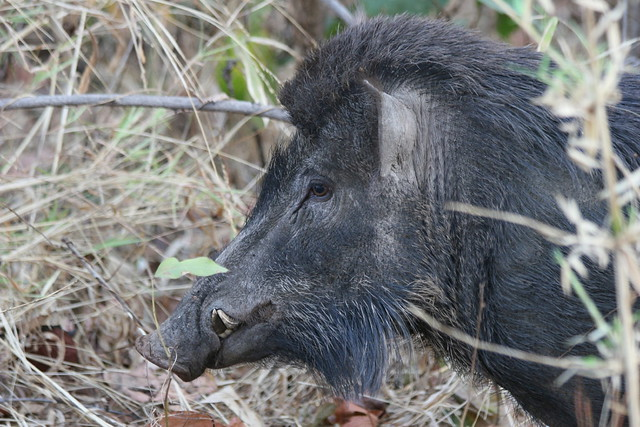wild boar: (137, 13, 640, 427)
